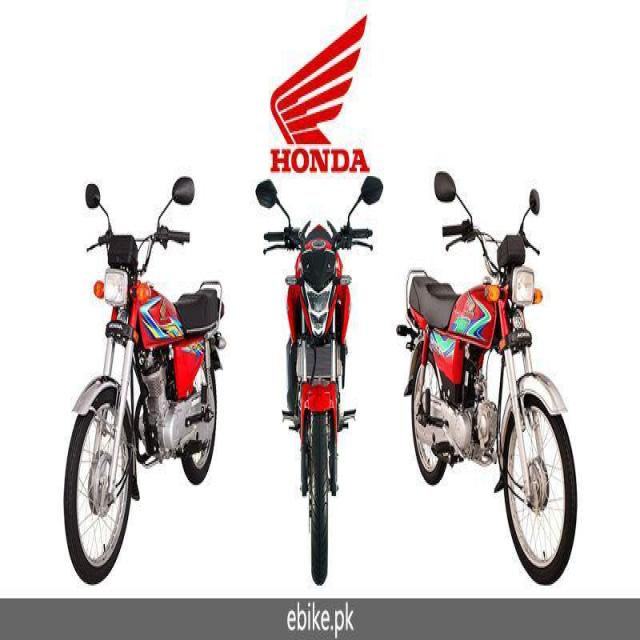motorcycle: (28, 147, 230, 598), (393, 172, 580, 590), (244, 169, 382, 583)
